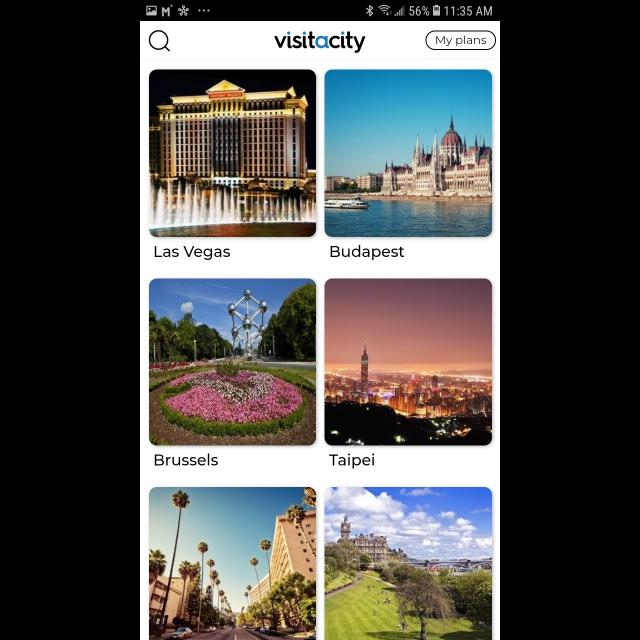icon: (149, 30, 171, 52)
image: (148, 278, 316, 446), (324, 278, 492, 446), (324, 70, 492, 238), (150, 70, 316, 238), (150, 486, 316, 640), (325, 487, 492, 640), (274, 31, 366, 53)
text: (154, 246, 230, 260), (331, 246, 405, 260), (154, 454, 218, 466), (330, 454, 374, 468)
textbutton: (426, 31, 496, 51)
uppertaskbar: (140, 1, 500, 22)
